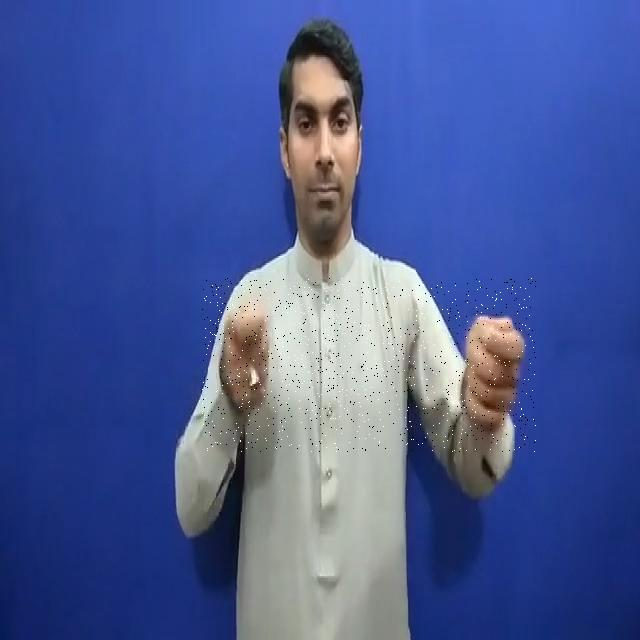manager: (202, 278, 536, 452)
